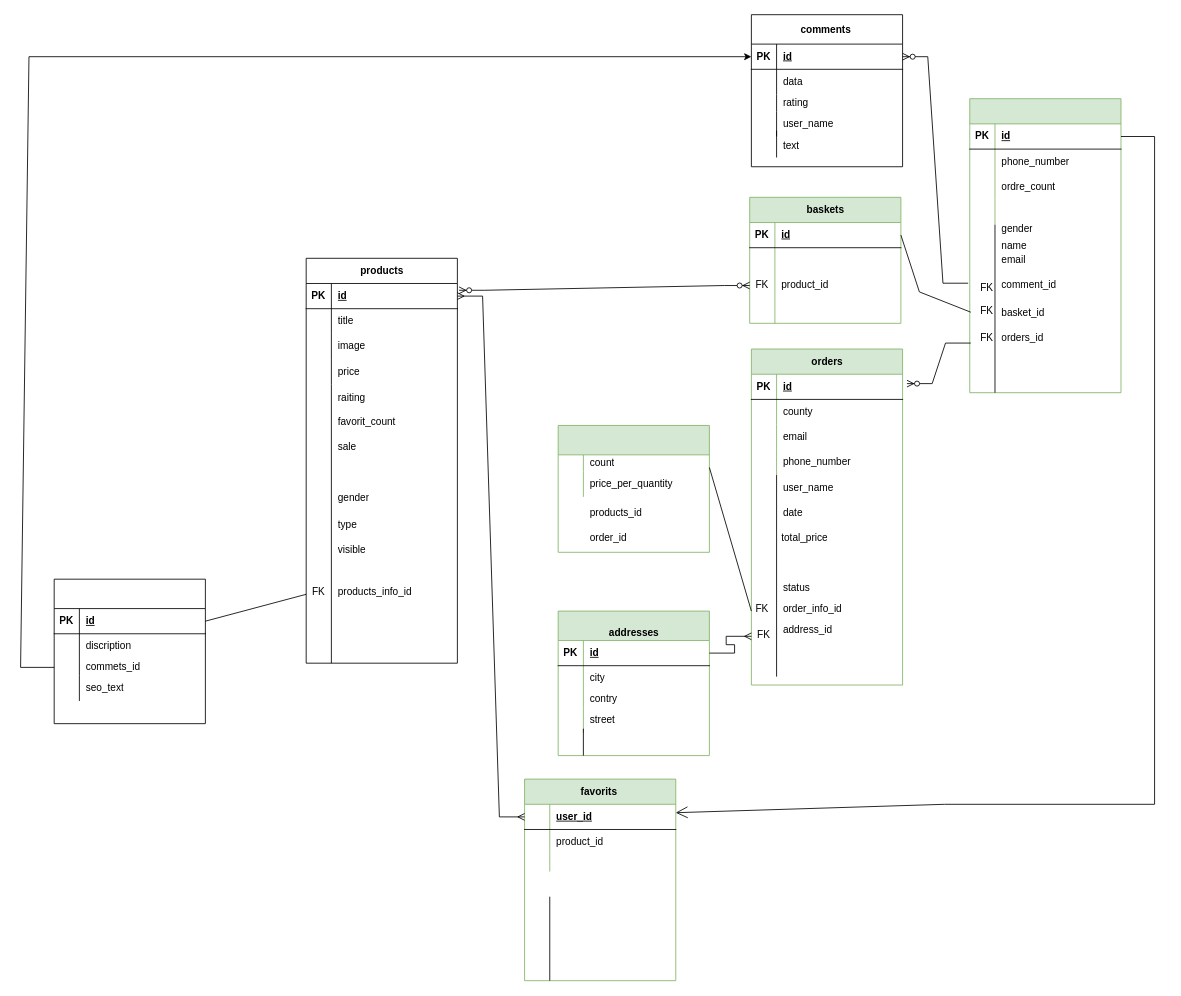
Image size: 1181x996. Some labels were removed from this diagram. Here are the shapes that lost their labels. From the top down, the box of each, then its label:
(969, 98, 1121, 393): users
(557, 425, 709, 552): order_products
(53, 578, 205, 724): products_info
